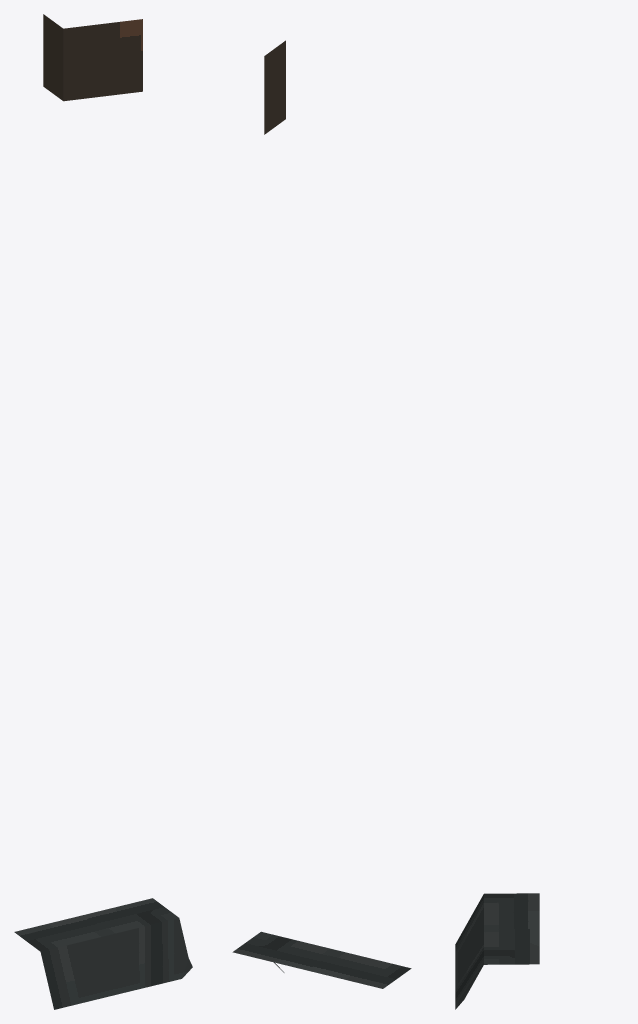
3 renders of one model, left to right at view 1: azimuth 30°, elevation 25°; view 2: azimuth 150°, elevation 25°; view 3: azimuth 270°, elevation 25°, orthographic. The views are drawn at different scales.
Size of the model in its own units: 1 by 6.34 by 1.
3 materials, 3 textured.
